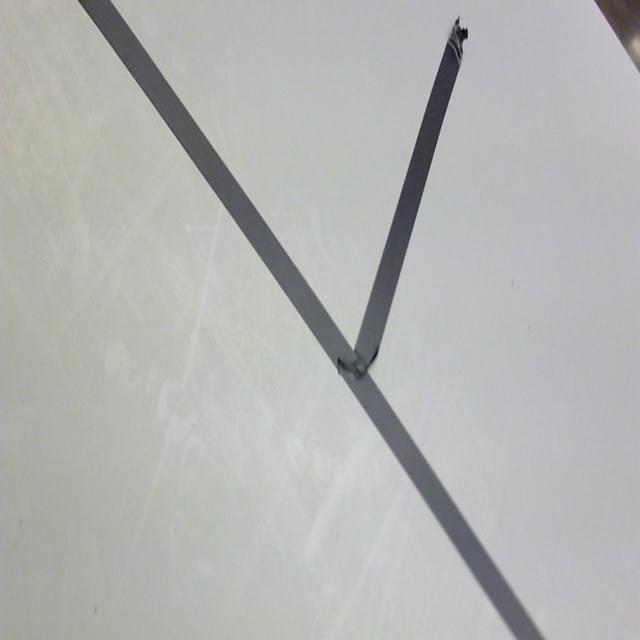tape: (52, 0, 568, 640)
